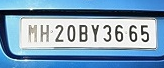0: (66, 24, 76, 43)
2: (54, 24, 65, 43)
3: (102, 24, 113, 43)
5: (140, 24, 150, 43)
6: (114, 23, 124, 43), (128, 24, 138, 43)
B: (78, 24, 89, 43)
H: (39, 25, 50, 42)
M: (28, 24, 38, 43)
Y: (90, 23, 100, 43)
